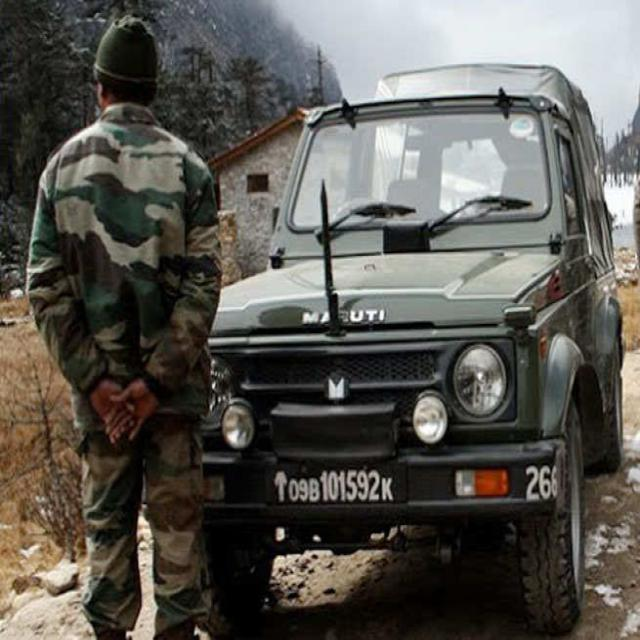military-plate: (265, 466, 405, 507)
unit number: (522, 457, 560, 504)
